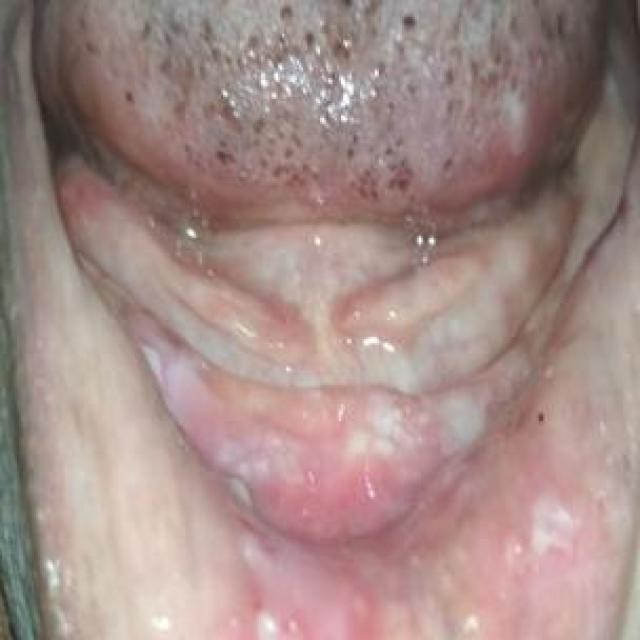leukoplakia-detection: (52, 108, 634, 638)
processing_area: (15, 0, 638, 638)
